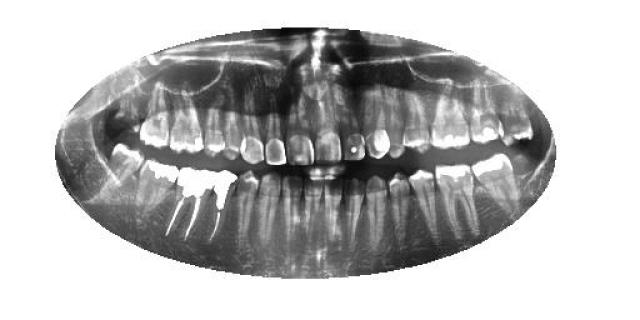Fillings: (435, 162, 479, 238), (474, 152, 518, 222), (134, 159, 180, 220), (432, 80, 472, 149), (471, 80, 501, 145)
Implant: (165, 166, 209, 242), (206, 170, 240, 242)
